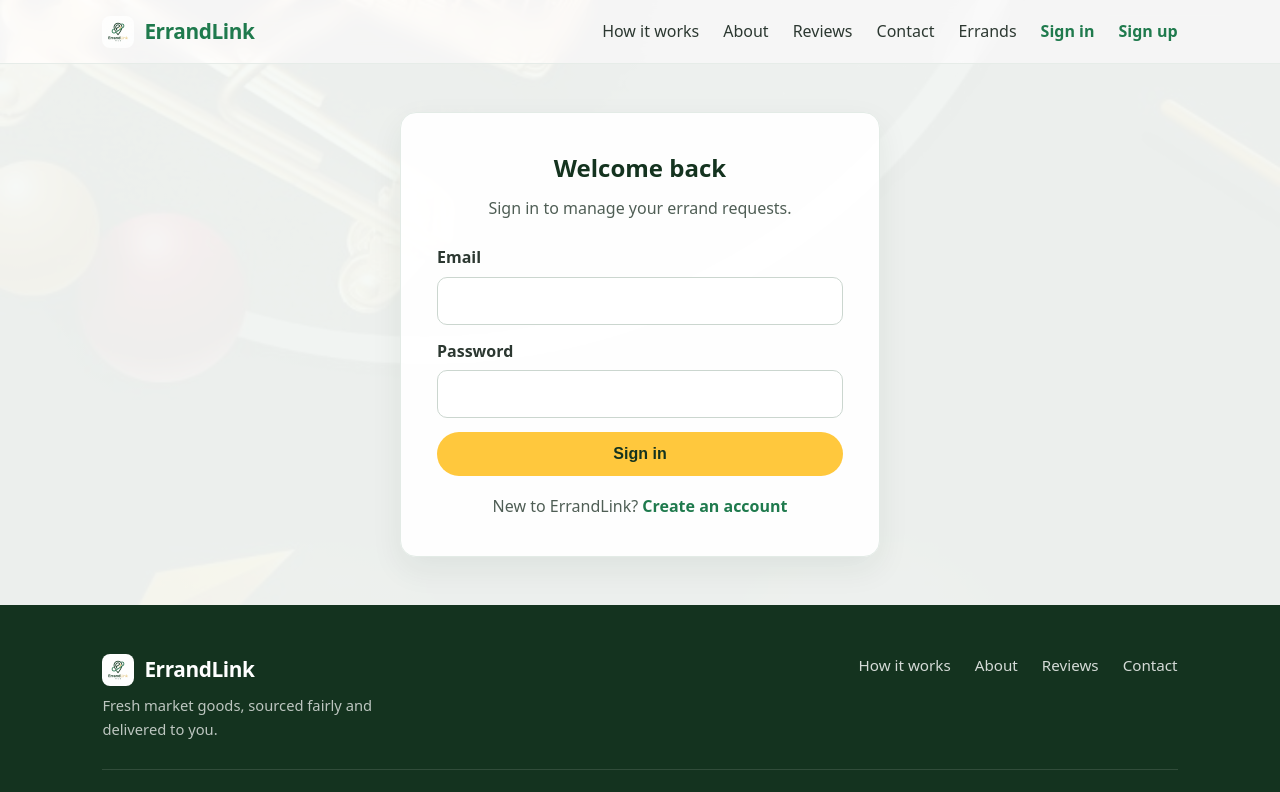
Test: authentication › rejects a wrong password
Type "ada@example.com" into the field labelled "Email". click: point(640, 301)
box: 437,277 -> 843,325
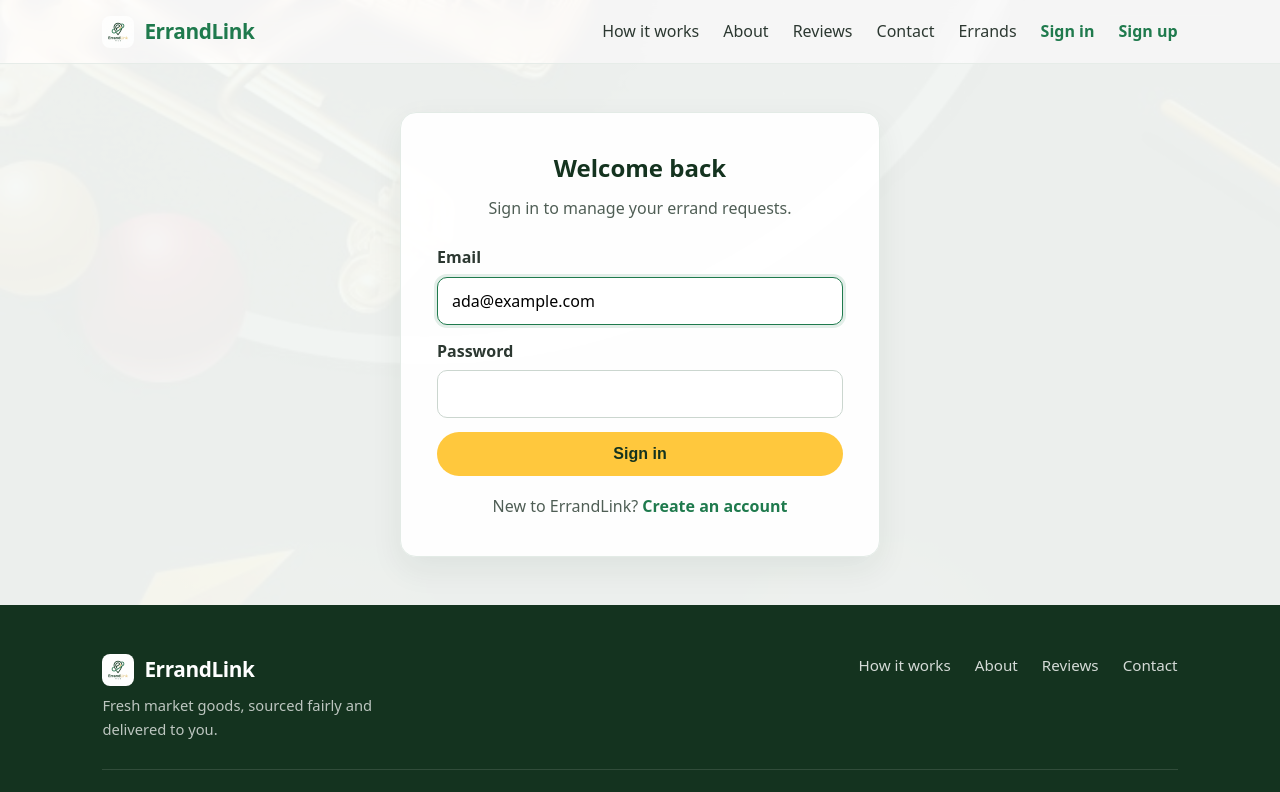
Type "wrongpass" into the password field labelled "Password". click: point(640, 394)
box: 437,370 -> 843,418
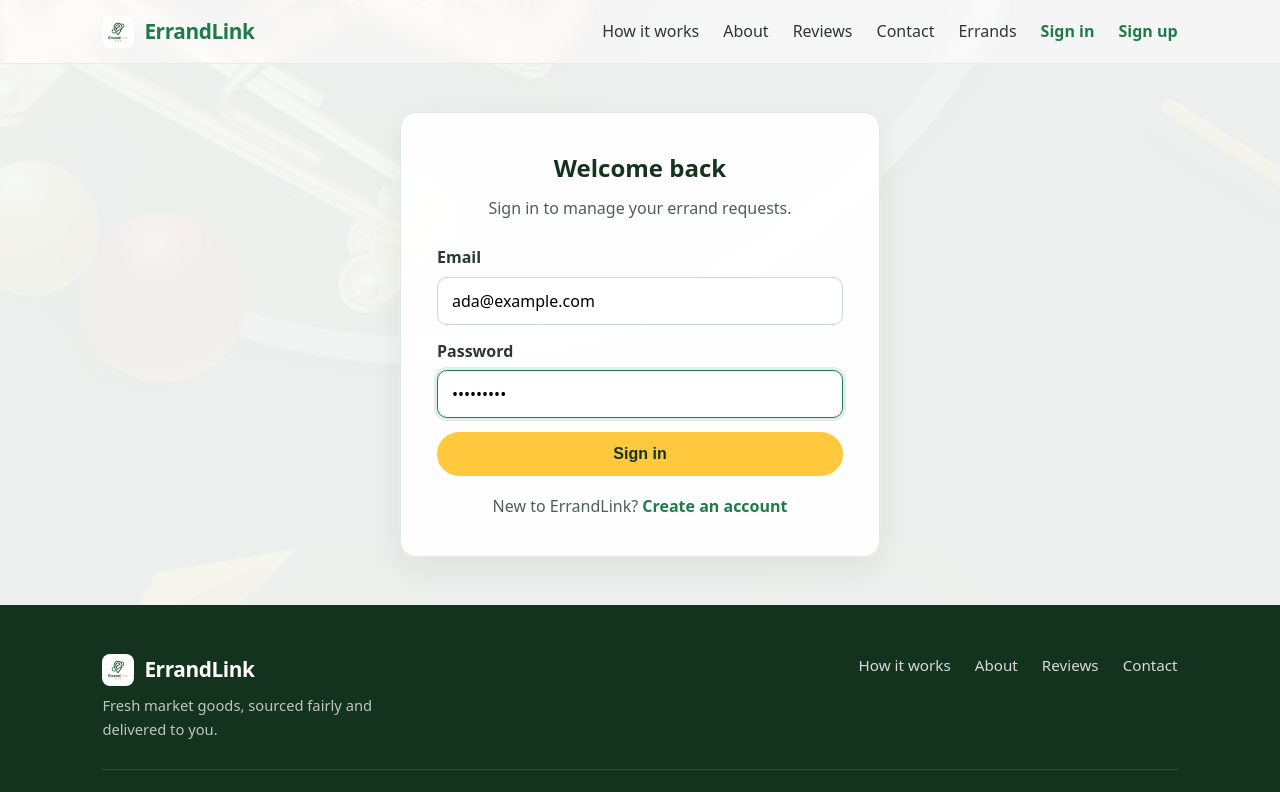
Click the button "Sign in". click: point(640, 454)
box: 437,432 -> 843,476
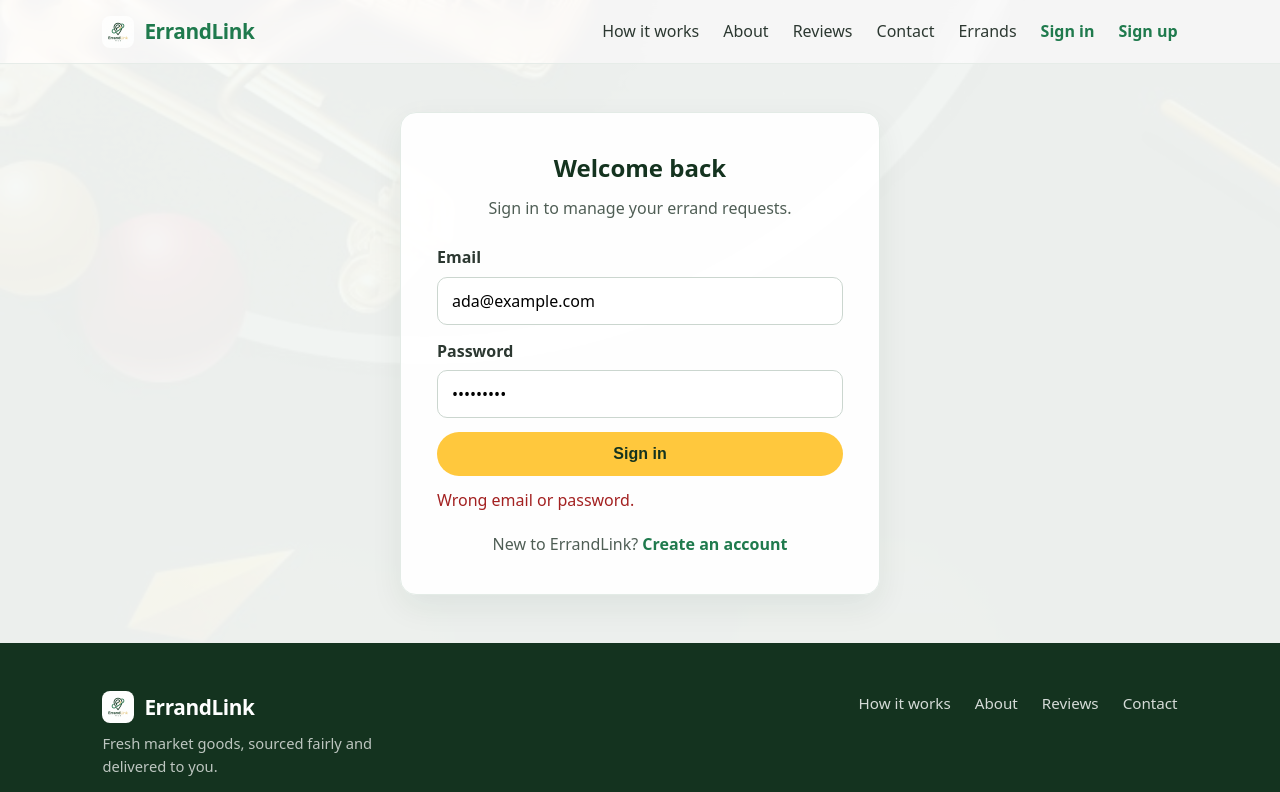
Expected: the message reads "Wrong email or password.", 437,489 -> 634,511
